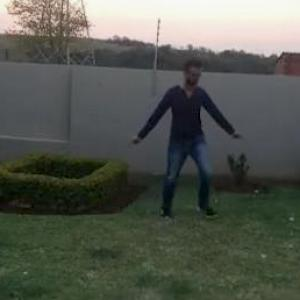land: (122, 48, 245, 228)
